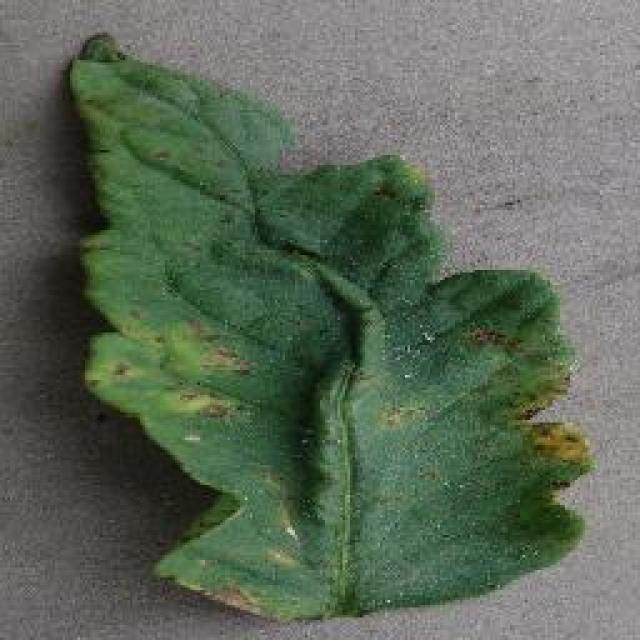Tomato___Bacterial_spot: (56, 31, 602, 622)
